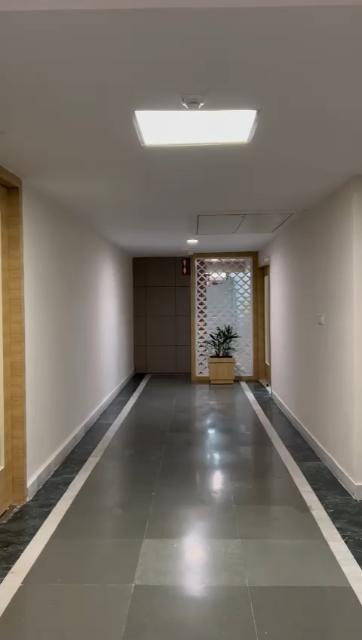door: (0, 168, 24, 502), (253, 271, 273, 385)
floor: (0, 376, 362, 639)
object: (205, 319, 242, 389)
wall: (26, 186, 129, 484), (275, 183, 362, 474)
